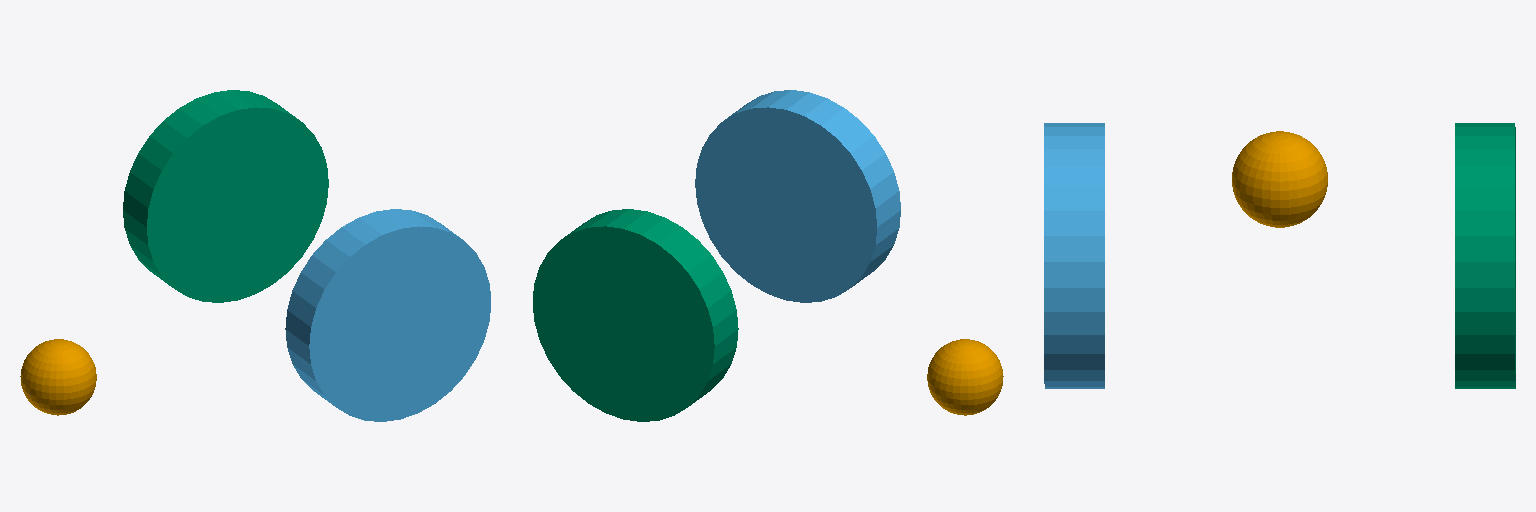
The robot description file, URDF, robot "pioneer2dx":
<?xml version="1.0" ?>
<robot name="pioneer2dx">
  <joint name="pioneer2dx__left_wheel_hinge" type="fixed">
    <parent link="pioneer2dx__chassis"/>
    <child link="pioneer2dx__left_wheel"/>
    <origin xyz="0.10047 15.14192 -4.88952" rpy="0     1.5707 1.5707"/>
    <axis xyz="9.e-05 9.e-05 1.e+00"/>
    <limit lower="0" upper="0" effort="0" velocity="0"/>
  </joint>
  <joint name="pioneer2dx__right_wheel_hinge" type="fixed">
    <parent link="pioneer2dx__chassis"/>
    <child link="pioneer2dx__right_wheel"/>
    <origin xyz="0.10048 14.86192 -4.88951" rpy="0     1.5707 1.5707"/>
    <axis xyz="9.e-05 9.e-05 1.e+00"/>
    <limit lower="0" upper="0" effort="0" velocity="0"/>
  </joint>
  <joint name="pioneer2dx__hokuyo_joint" type="fixed">
    <parent link="pioneer2dx__chassis"/>
    <child link="pioneer2dx__hokuyo__link"/>
    <origin xyz="10.19999 10       5.235" rpy="0 0 0"/>
    <axis xyz="0 0 0"/>
    <limit lower="0" upper="0" effort="0" velocity="0"/>
  </joint>
  <link name="pioneer2dx__chassis">
    <inertial>
      <mass value="5.67"/>
      <origin xyz="0 0 0" rpy="0 0 0"/>
      <inertia ixx="0.07" ixy="0" ixz="0" iyy="0.08" iyz="0" izz="0.10"/>
    </inertial>
    <collision name="pioneer2dx__collision">
      <origin xyz="10   10    5.16" rpy="0 0 0"/>
      <geometry>
        <box size="0.445 0.277 0.17"/>
      </geometry>
    </collision>
    <collision name="pioneer2dx__castor_collision">
      <origin xyz="9.8  10    5.04" rpy="0 0 0"/>
      <geometry>
        <sphere radius="0.04"/>
      </geometry>
    </collision>
    <visual name="pioneer2dx__visual">
      <origin xyz="10  10   5.2" rpy="0 0 0"/>
      <geometry>
        <mesh filename="package://farrt-bot_gazebo/models/robot/meshes/chassis.dae" scale="1.0 1.0 1.0"/>
      </geometry>
    </visual>
    <visual name="pioneer2dx__castor_visual">
      <origin xyz="9.8  10    5.04" rpy="0 0 0"/>
      <geometry>
        <sphere radius="0.04"/>
      </geometry>
    </visual>
  </link>
  <link name="pioneer2dx__right_wheel">
    <inertial>
      <mass value="1.5"/>
      <origin xyz="0 0 0" rpy="0 0 0"/>
      <inertia ixx="0.0051" ixy="0" ixz="0" iyy="0.0051" iyz="0" izz="0.0090"/>
    </inertial>
    <collision name="pioneer2dx__collision">
      <origin xyz="-10   -10    -5.03" rpy="0 0 0"/>
      <geometry>
        <cylinder radius="0.11" length="0.05"/>
      </geometry>
    </collision>
    <visual name="pioneer2dx__visual">
      <origin xyz="-10   -10    -5.03" rpy="0 0 0"/>
      <geometry>
        <cylinder radius="0.11" length="0.05"/>
      </geometry>
    </visual>
  </link>
  <link name="pioneer2dx__left_wheel">
    <inertial>
      <mass value="1.5"/>
      <origin xyz="0 0 0" rpy="0 0 0"/>
      <inertia ixx="0.0051" ixy="0" ixz="0" iyy="0.0051" iyz="0" izz="0.0090"/>
    </inertial>
    <collision name="pioneer2dx__collision">
      <origin xyz="-10   -10    -4.97" rpy="0 0 0"/>
      <geometry>
        <cylinder radius="0.11" length="0.05"/>
      </geometry>
    </collision>
    <visual name="pioneer2dx__visual">
      <origin xyz="-10   -10    -4.97" rpy="0 0 0"/>
      <geometry>
        <cylinder radius="0.11" length="0.05"/>
      </geometry>
    </visual>
  </link>
  <link name="pioneer2dx__hokuyo__link">
    <inertial>
      <mass value="0.1"/>
      <origin xyz="0 0 0" rpy="0 0 0"/>
      <inertia ixx="0" ixy="0" ixz="0" iyy="0" iyz="0" izz="0"/>
    </inertial>
    <collision name="pioneer2dx__hokuyo__collision-base">
      <origin xyz="0      0     -0.0145" rpy="0 0 0"/>
      <geometry>
        <box size="0.05 0.05 0.041"/>
      </geometry>
    </collision>
    <collision name="pioneer2dx__hokuyo__collision-top">
      <origin xyz="0     0     0.0205" rpy="0 0 0"/>
      <geometry>
        <cylinder radius="0.021" length="0.029"/>
      </geometry>
    </collision>
    <visual name="pioneer2dx__hokuyo__visual">
      <origin xyz="0 0 0" rpy="0 0 0"/>
      <geometry>
        <!-- <mesh filename="package://PATHTOMESHES/meshes/hokuyo.dae" scale="1.0 1.0 1.0"/> -->
      </geometry>
    </visual>
  </link>
</robot>

--- What the picture shows (computed from the rendered views, not written in the file) ---
3 views of the same robot in one strip: view 1: azimuth 30°, elevation 25°; view 2: azimuth 150°, elevation 25°; view 3: azimuth 270°, elevation 25° (orthographic).
Model pioneer2dx with 4 links and 3 joints (3 fixed), rooted at pioneer2dx__chassis, posed all joints at 0.
Visible links, largest first — view 1: pioneer2dx__left_wheel, pioneer2dx__right_wheel, pioneer2dx__chassis; view 2: pioneer2dx__right_wheel, pioneer2dx__left_wheel, pioneer2dx__chassis; view 3: pioneer2dx__left_wheel, pioneer2dx__right_wheel, pioneer2dx__chassis.
Boxes of the visible links, <box> form: pioneer2dx__left_wheel: <box>123,90,328,302</box>; pioneer2dx__right_wheel: <box>285,209,490,421</box>; pioneer2dx__chassis: <box>20,339,96,415</box>; pioneer2dx__right_wheel: <box>695,90,900,302</box>; pioneer2dx__left_wheel: <box>533,209,738,421</box>; pioneer2dx__chassis: <box>927,339,1003,415</box>; pioneer2dx__left_wheel: <box>1455,123,1515,388</box>; pioneer2dx__right_wheel: <box>1044,123,1104,388</box>; pioneer2dx__chassis: <box>1232,131,1327,227</box>.
Bounding box of the posed robot: 0.45 × 0.39 × 0.22 m (x, y, z).
Meshes: 1 distinct files referenced, 0 mesh visuals loaded (none loaded); not drawn: 1 (reference not matched to a file when rendering).